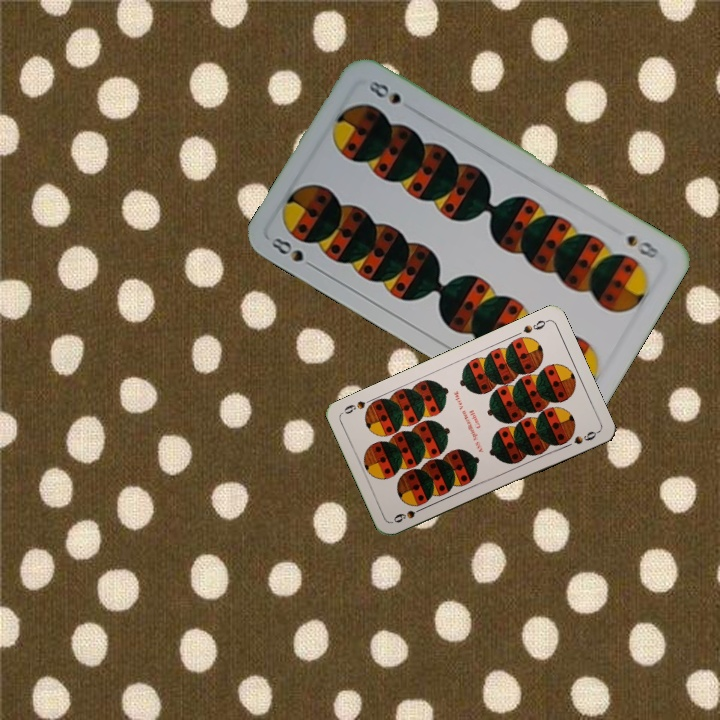S8: (267, 233, 320, 273), (622, 230, 663, 261)
S9: (389, 503, 428, 525), (519, 316, 550, 336)
